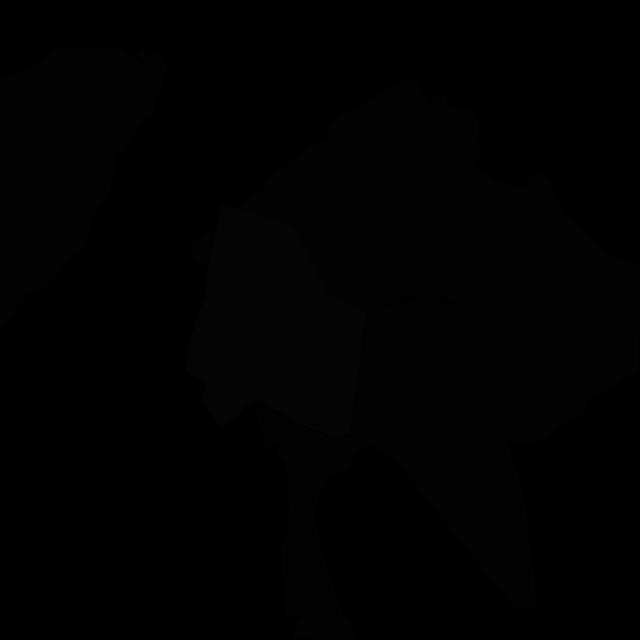cardboard: (256, 296, 536, 640), (386, 93, 640, 445), (0, 45, 168, 329), (236, 77, 434, 313), (189, 222, 217, 270)
soft_plastic: (186, 205, 366, 436)
